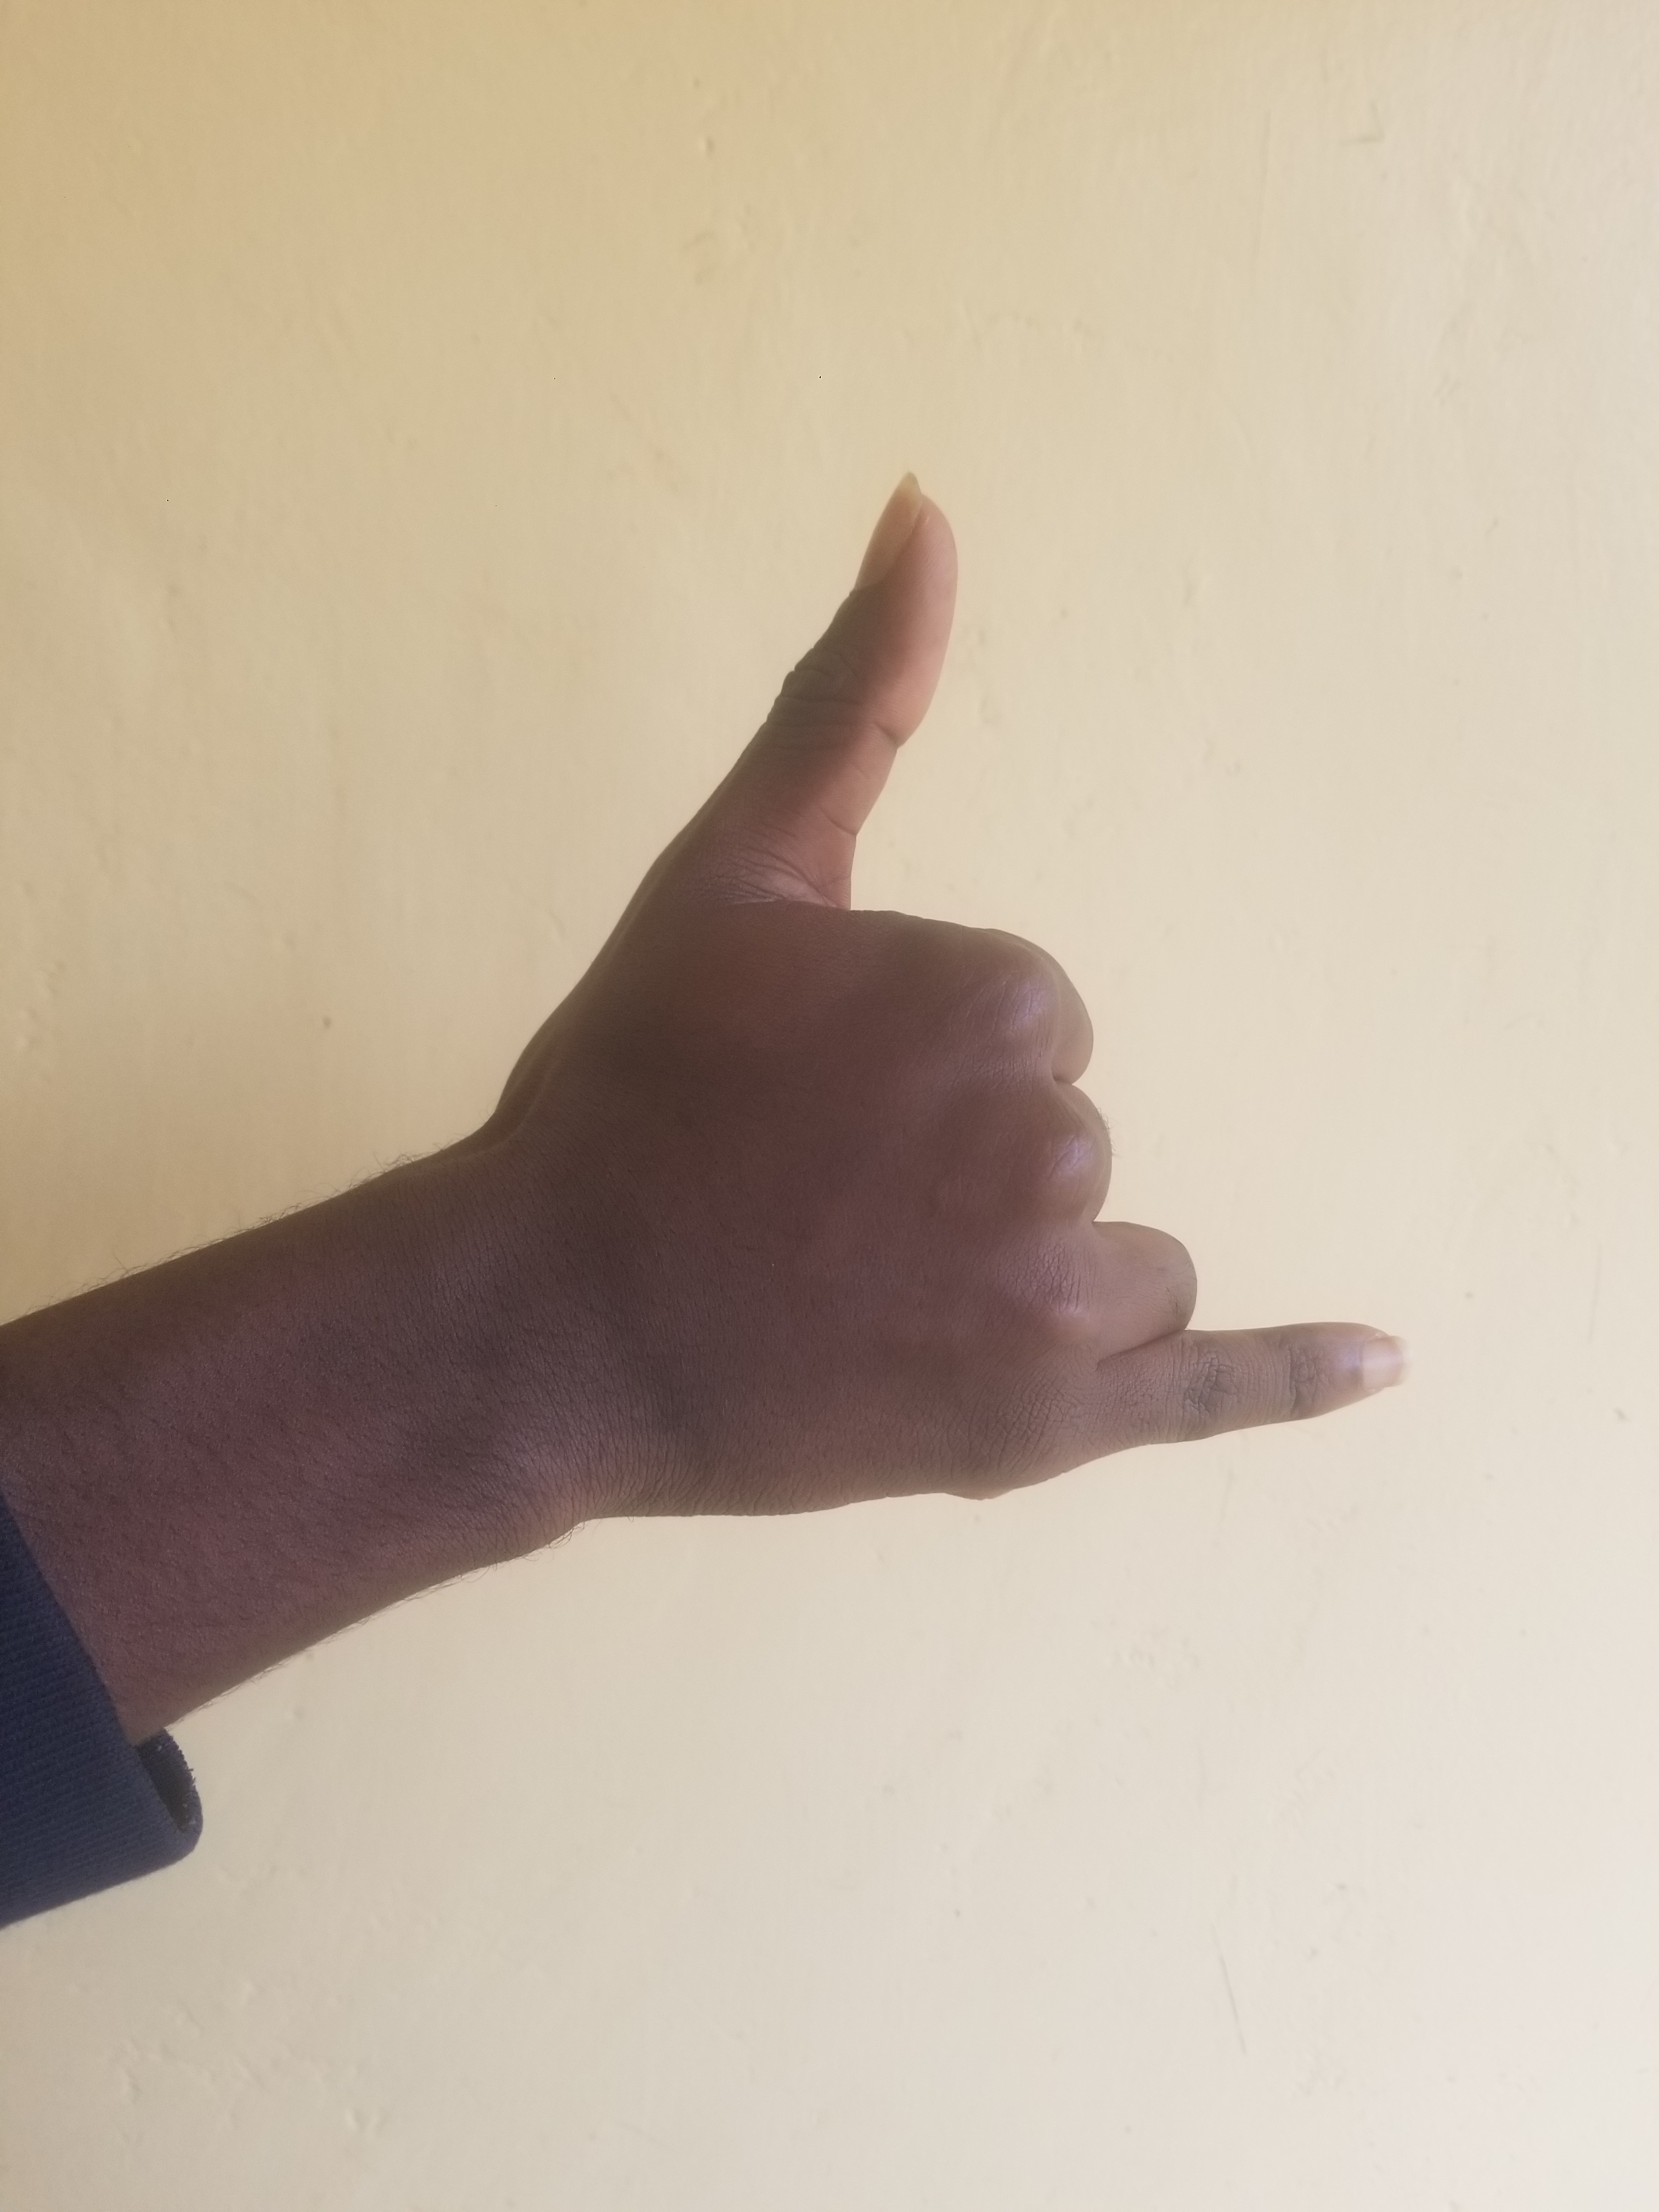call: (321, 282, 1560, 1698)
